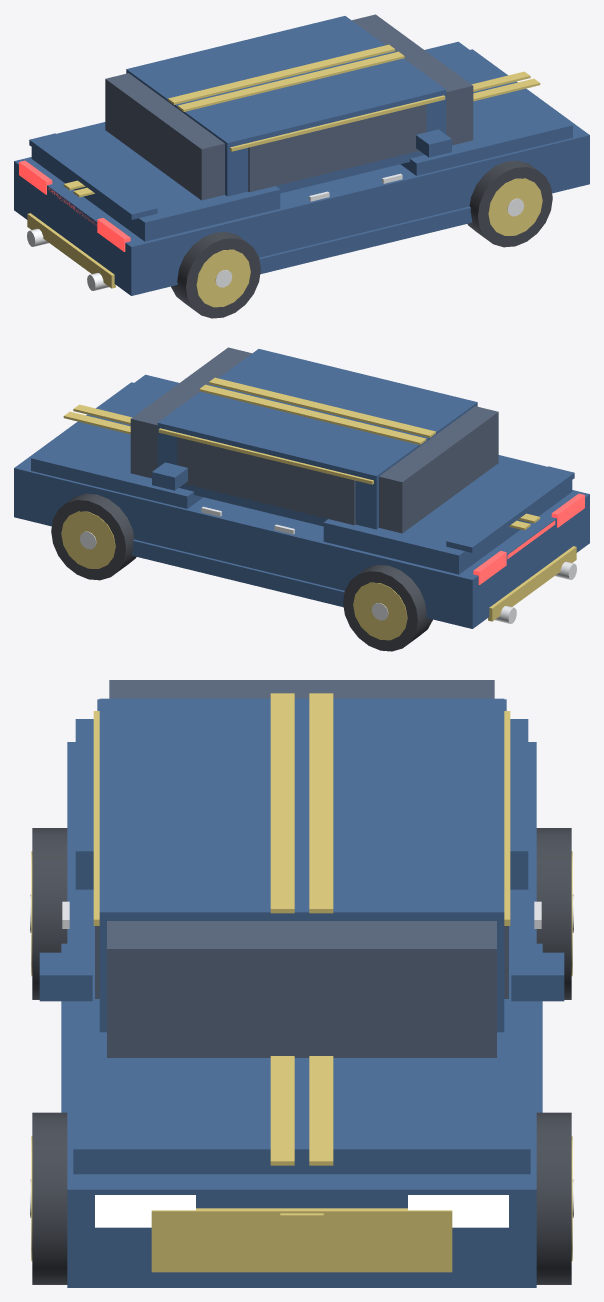
The model's file is car.glb.
The picture shows the model from 3 angles, top to bottom: view 1: azimuth 30°, elevation 25°; view 2: azimuth 150°, elevation 25°; view 3: azimuth 270°, elevation 25°; orthographic projection. The views are drawn at different scales.
Parts seen in each view (by area): view 1: Car_Body_Chassis, Car_Glass_Windows, Car_Gold_Accents, Car_Tires, Car_Alloy_Rims, Car_Chrome_Trim, Car_Taillights; view 2: Car_Body_Chassis, Car_Glass_Windows, Car_Gold_Accents, Car_Tires, Car_Alloy_Rims, Car_Taillights, Car_Chrome_Trim; view 3: Car_Body_Chassis, Car_Glass_Windows, Car_Gold_Accents, Car_Tires, Car_Headlights, Car_Alloy_Rims.
Part boxes in pixels (left/top/right/bottom): Car_Body_Chassis: left=14, top=16, right=589, bottom=295; Car_Glass_Windows: left=105, top=14, right=473, bottom=200; Car_Gold_Accents: left=27, top=44, right=540, bottom=288; Car_Tires: left=171, top=160, right=552, bottom=318; Car_Alloy_Rims: left=196, top=178, right=542, bottom=307; Car_Chrome_Trim: left=27, top=173, right=524, bottom=290; Car_Taillights: left=19, top=160, right=130, bottom=251; Car_Body_Chassis: left=14, top=349, right=589, bottom=628; Car_Glass_Windows: left=130, top=347, right=498, bottom=533; Car_Gold_Accents: left=63, top=377, right=576, bottom=621; Car_Tires: left=51, top=493, right=432, bottom=651; Car_Alloy_Rims: left=61, top=511, right=407, bottom=640; Car_Taillights: left=473, top=493, right=584, bottom=584; Car_Chrome_Trim: left=79, top=506, right=576, bottom=623; Car_Body_Chassis: left=39, top=698, right=564, bottom=1287; Car_Glass_Windows: left=95, top=680, right=508, bottom=1057; Car_Gold_Accents: left=93, top=693, right=510, bottom=1272; Car_Tires: left=32, top=828, right=571, bottom=1284; Car_Headlights: left=95, top=1195, right=508, bottom=1227; Car_Alloy_Rims: left=31, top=851, right=572, bottom=1261.
Size of the model in its own units: 4.56 by 1.46 by 2.26.
